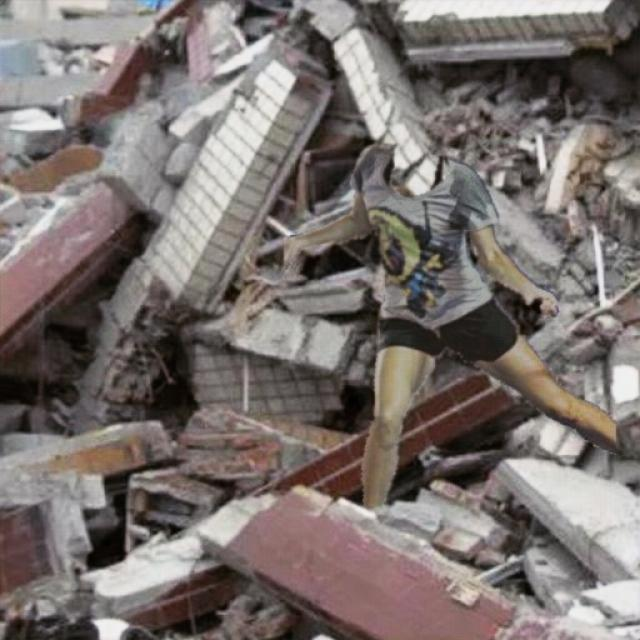Person in Rubble: (284, 142, 615, 506)
